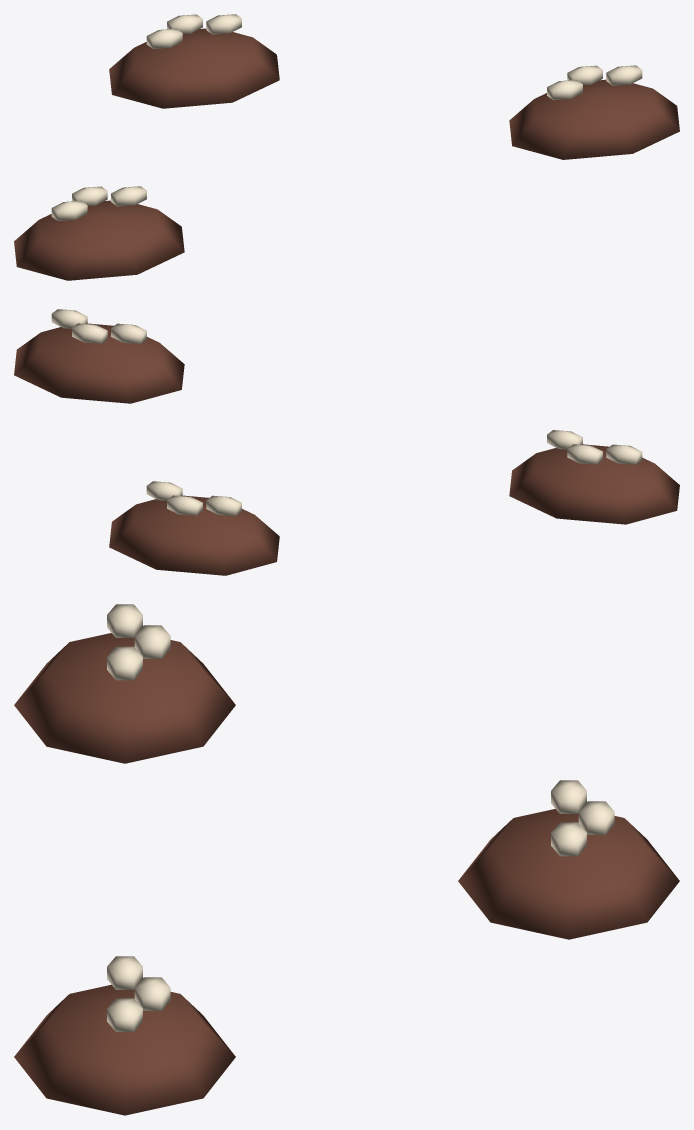
File: stage_0_seed.glb
The picture shows the model from 3 angles, top to bottom: view 1: azimuth 30°, elevation 25°; view 2: azimuth 150°, elevation 25°; view 3: azimuth 270°, elevation 25°; orthographic projection. The views are drawn at different scales.
Parts seen in each view (by area): view 1: 土丘.002, 土丘, 土丘.001, 种子.005, 种子.006, 种子, 种子.002, 种子.008, 种子.003, 种子.004, 种子.007, 种子.001; view 2: 土丘, 土丘.002, 土丘.001, 种子, 种子.001, 种子.004, 种子.007, 种子.003, 种子.006, 种子.005, 种子.008, 种子.002; view 3: 土丘, 土丘.002, 土丘.001, 种子.002, 种子.008, 种子.001, 种子.004, 种子.007, 种子.005, 种子.006, 种子, 种子.003.
Part boxes in pixels (x1,y1,x2,y2): 土丘.002: [109, 28, 279, 108]; 土丘: [14, 200, 184, 280]; 土丘.001: [509, 79, 679, 159]; 种子.005: [606, 65, 642, 85]; 种子.006: [146, 28, 182, 48]; 种子: [51, 200, 87, 220]; 种子.002: [111, 186, 146, 206]; 种子.008: [206, 14, 241, 34]; 种子.003: [547, 80, 582, 100]; 种子.004: [567, 65, 602, 85]; 种子.007: [167, 14, 202, 33]; 种子.001: [72, 186, 107, 205]; 土丘: [509, 444, 679, 524]; 土丘.002: [109, 495, 279, 575]; 土丘.001: [14, 323, 184, 403]; 种子: [606, 444, 642, 464]; 种子.001: [567, 444, 602, 464]; 种子.004: [72, 323, 107, 343]; 种子.007: [167, 495, 202, 515]; 种子.003: [111, 323, 146, 343]; 种子.006: [206, 495, 241, 515]; 种子.005: [51, 309, 87, 328]; 种子.008: [146, 481, 182, 500]; 种子.002: [547, 430, 582, 449]; 土丘: [14, 633, 235, 763]; 土丘.002: [458, 809, 679, 939]; 土丘.001: [14, 984, 235, 1115]; 种子.002: [107, 646, 142, 680]; 种子.008: [551, 822, 586, 856]; 种子.001: [134, 625, 170, 658]; 种子.004: [134, 977, 170, 1010]; 种子.007: [578, 801, 614, 834]; 种子.005: [107, 998, 142, 1031]; 种子.006: [551, 780, 586, 813]; 种子: [107, 604, 142, 637]; 种子.003: [107, 956, 142, 989].
Size of the model in its own units: 0.8 by 0.06 by 0.48.
1 material, 1 textured.
